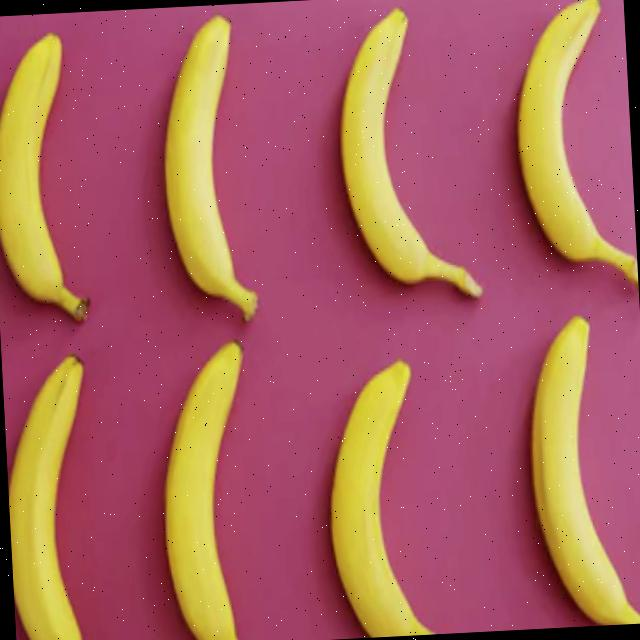Ripe: (312, 0, 486, 326), (303, 334, 475, 640), (141, 330, 294, 640), (504, 0, 639, 303), (517, 301, 640, 629), (1, 337, 128, 640), (152, 3, 268, 334), (0, 12, 102, 332)
